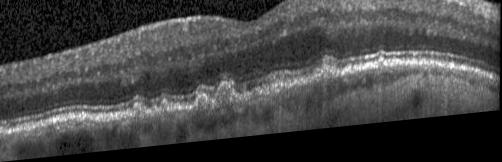retinal_drusen: (216, 88, 232, 113), (133, 106, 151, 122), (196, 99, 212, 114), (269, 86, 285, 100), (320, 77, 332, 87), (161, 103, 169, 117), (377, 64, 385, 76)
